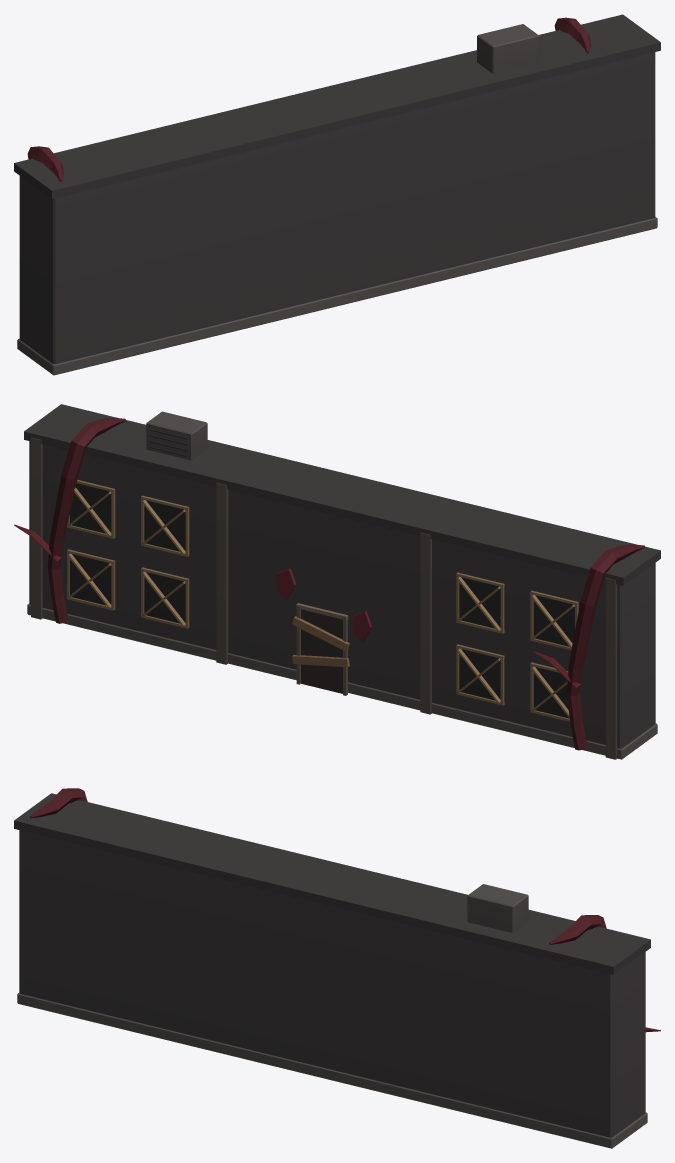
File: PT_InfectedFacadeA.glb
3 views of the same model, one above another, from view 1: azimuth 30°, elevation 25°; view 2: azimuth 150°, elevation 25°; view 3: azimuth 330°, elevation 25° (orthographic).
Parts seen in each view (by area): view 1: PT_InfectedFacadeA__Body; view 2: PT_InfectedFacadeA__Body; view 3: PT_InfectedFacadeA__Body.
Part boxes in pixels (x1,y1,x2,y2): PT_InfectedFacadeA__Body: (14,14,660,375); PT_InfectedFacadeA__Body: (14,404,660,759); PT_InfectedFacadeA__Body: (14,788,660,1148).
Bounding box in the file's own units: 65.36 × 21.7 × 8.56.
